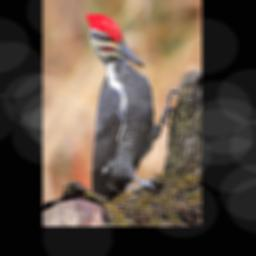Woodpecker: (86, 12, 182, 201)
